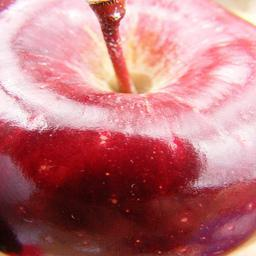apple: (0, 0, 254, 250)
